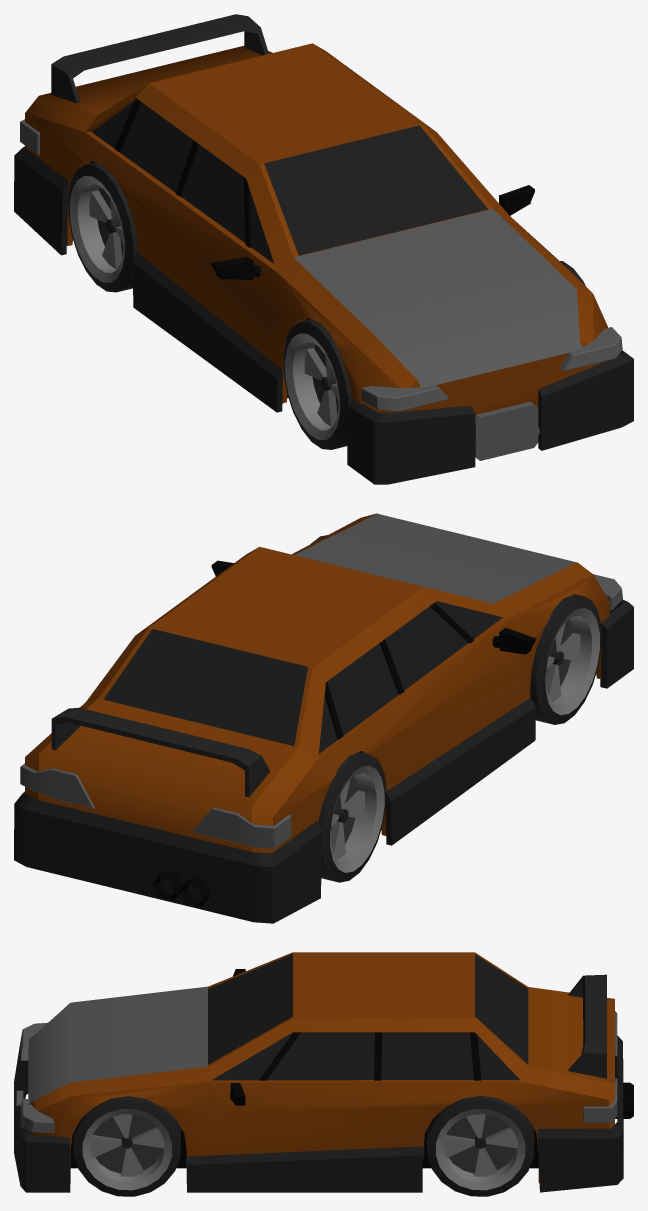
Rendered from Car_01.fbx.
3 views of the same model, one above another, from view 1: azimuth 30°, elevation 25°; view 2: azimuth 150°, elevation 25°; view 3: azimuth 270°, elevation 25° (orthographic). The views are drawn at different scales.
Visible parts, largest first — view 1: Car_01; view 2: Car_01; view 3: Car_01.
Part boxes in pixels (x1,y1,x2,y2): Car_01: (14, 14, 633, 484); Car_01: (14, 513, 633, 923); Car_01: (14, 952, 633, 1196).
Bounding box in the file's own units: 537 × 317 × 1106.
